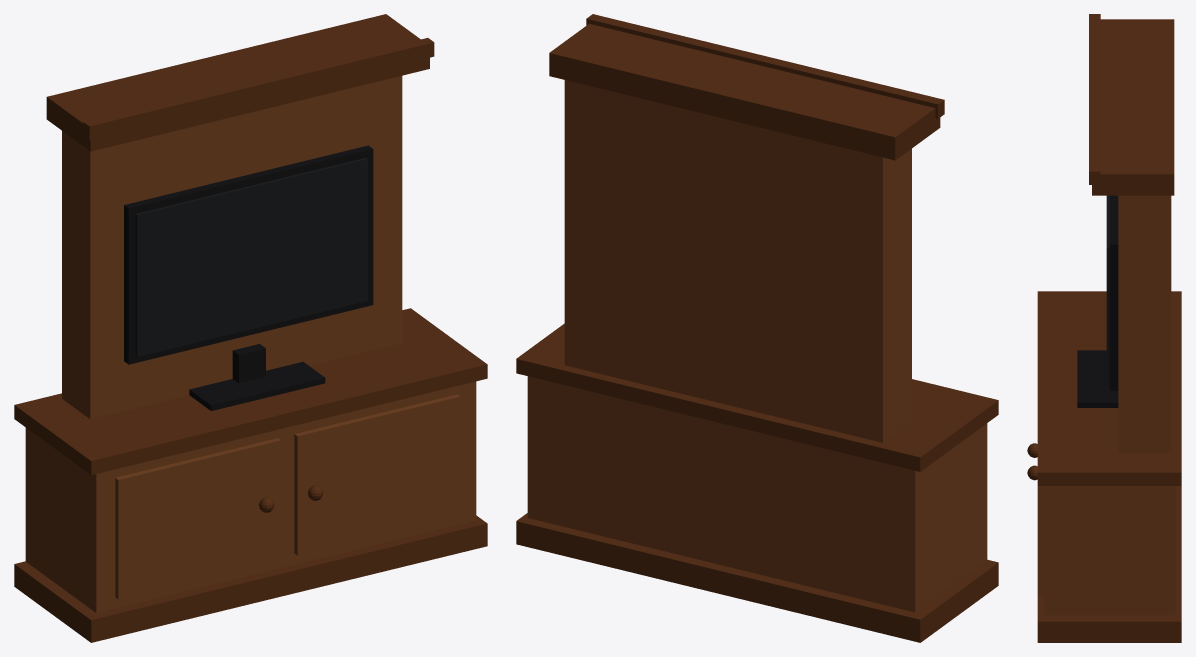
Rendered from TV_Console.obj.
The picture shows the model from 3 angles, left to right: view 1: azimuth 30°, elevation 25°; view 2: azimuth 150°, elevation 25°; view 3: azimuth 270°, elevation 25°; orthographic projection. The views are drawn at different scales.
Visible parts, largest first — view 1: TV_Entertainment_Console; view 2: TV_Entertainment_Console; view 3: TV_Entertainment_Console.
Boxes of the visible parts, <box> form: TV_Entertainment_Console: <box>14,14,487,642</box>; TV_Entertainment_Console: <box>516,14,998,642</box>; TV_Entertainment_Console: <box>1027,14,1181,642</box>.
Bounding box in the file's own units: 1.46 × 1.73 × 0.525.
